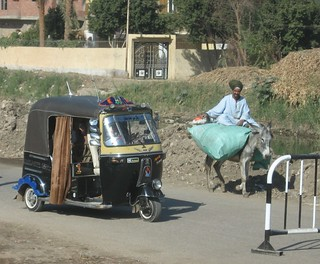threewheel: (16, 96, 166, 222)
